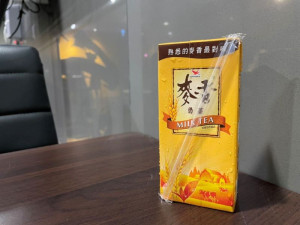鋁箔包: (147, 34, 249, 214)
